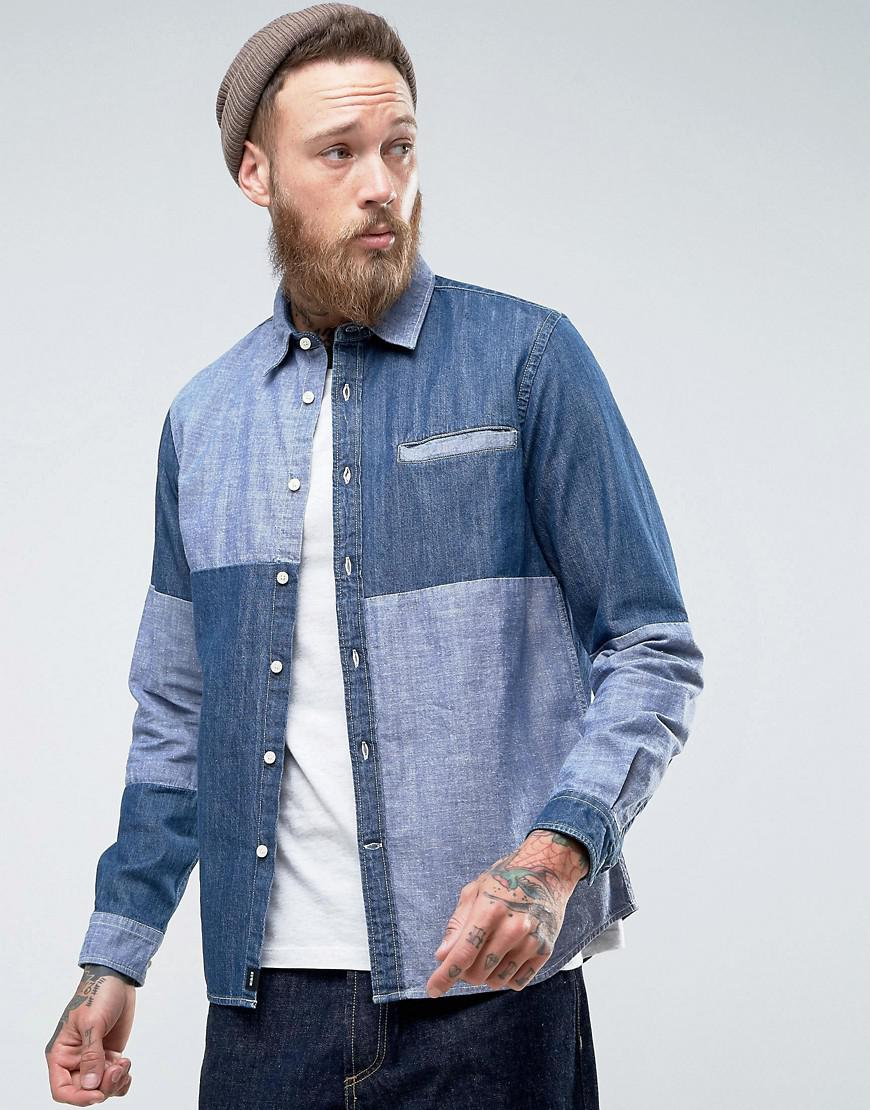teeshirt: (91, 285, 727, 971)
